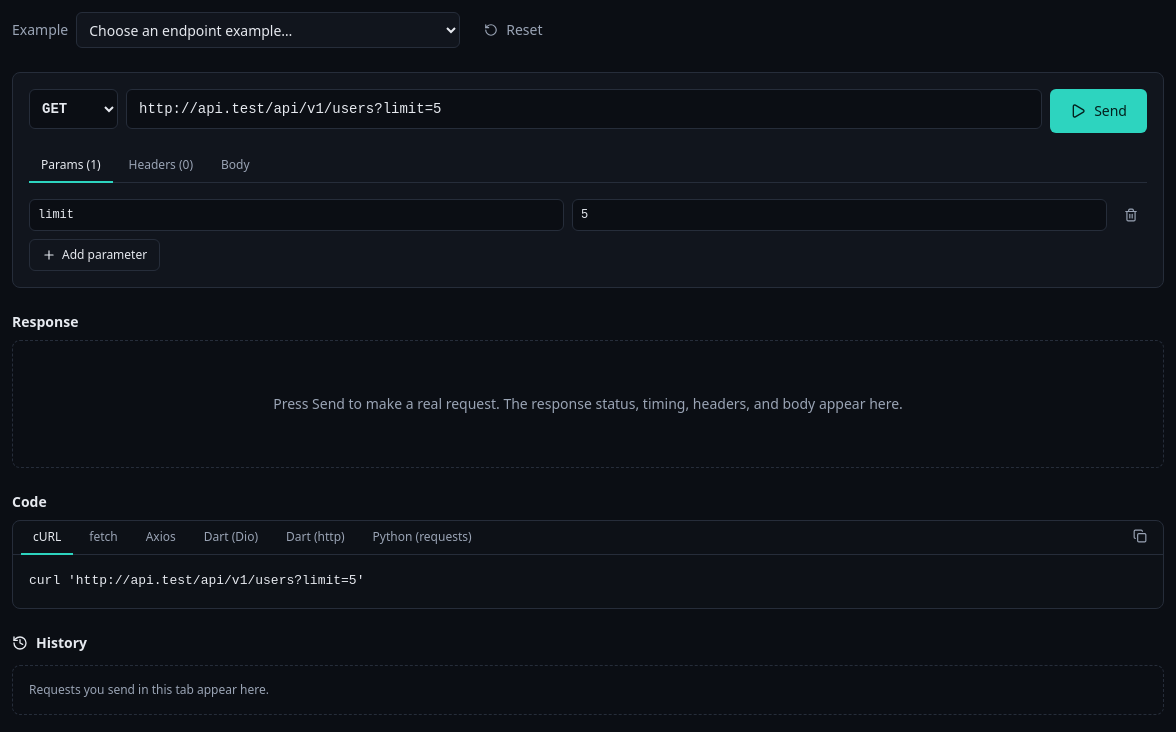
Test: Playground › shows a network error state when the API is unreachable
This screenshot has width=1176, height=732.
Click the button "Send": (1099, 111) top-left (1050, 89), bottom-right (1147, 133)
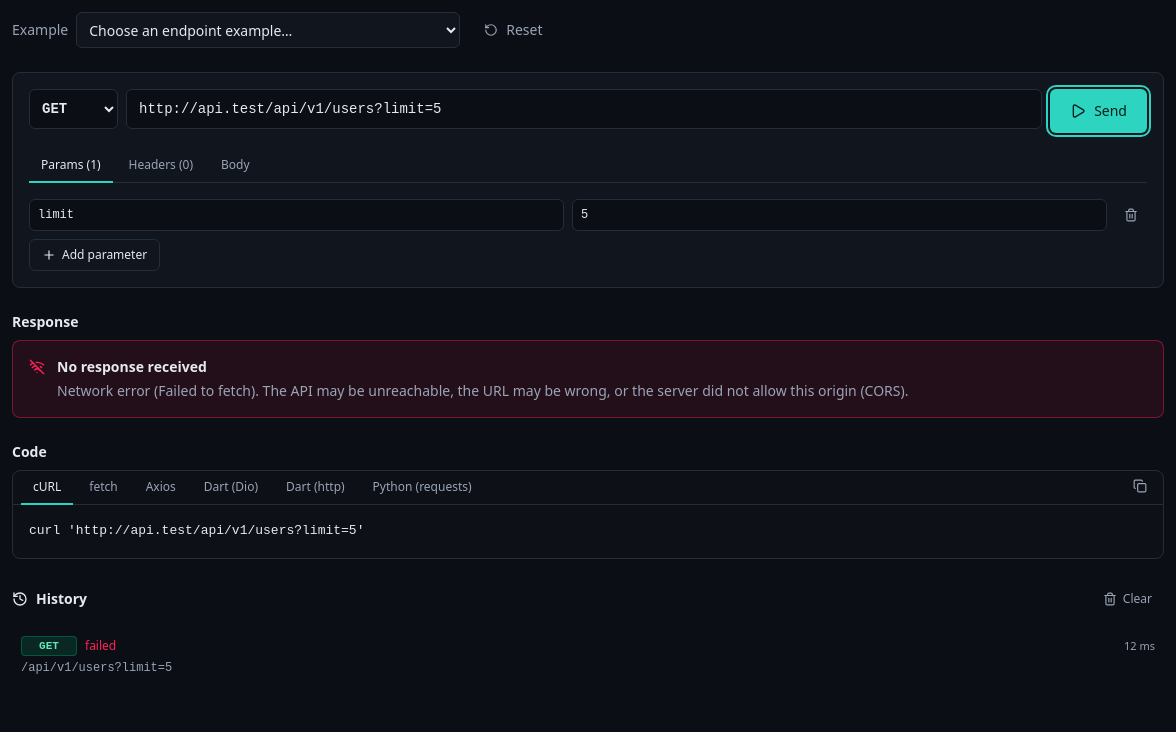
Expected: the message shows "No response received", top-left (57, 357), bottom-right (207, 376)
Expected: the message shows "CORS", top-left (57, 381), bottom-right (908, 400)
Expected: the text "failed" is shown, top-left (85, 638), bottom-right (116, 654)
